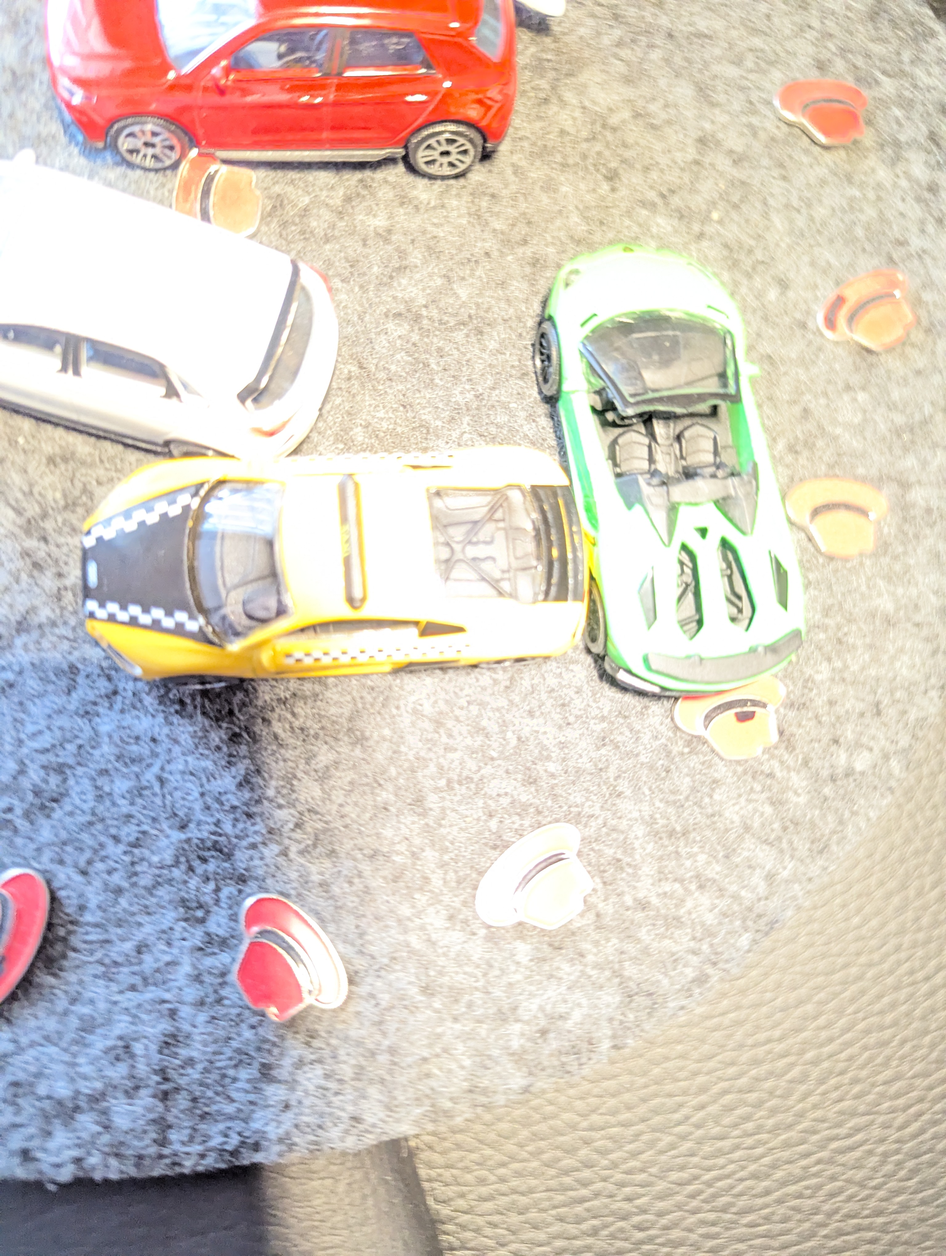Car: (496, 212, 844, 729), (53, 432, 601, 729), (0, 142, 356, 468), (32, 0, 534, 191)
Red-Hat: (207, 868, 358, 1071), (448, 800, 614, 960), (633, 650, 800, 773), (149, 132, 269, 254), (799, 261, 943, 357), (766, 61, 912, 153), (768, 462, 892, 563)
Scratch: (811, 270, 856, 348), (714, 689, 773, 738)
